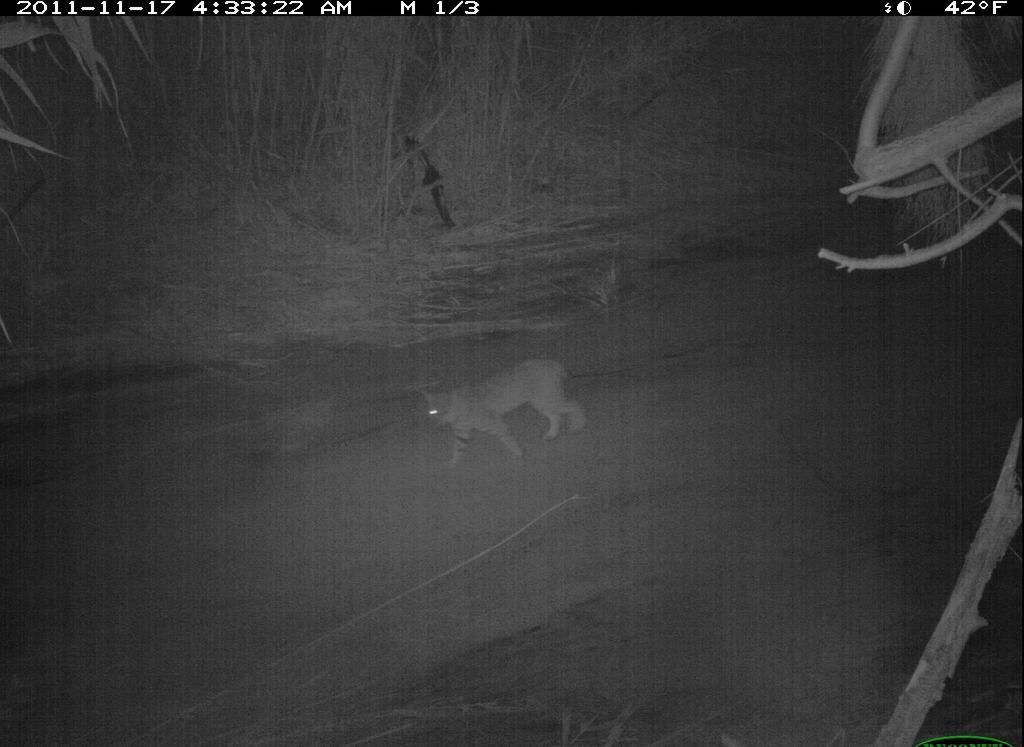bobcat: (414, 347, 602, 491)
